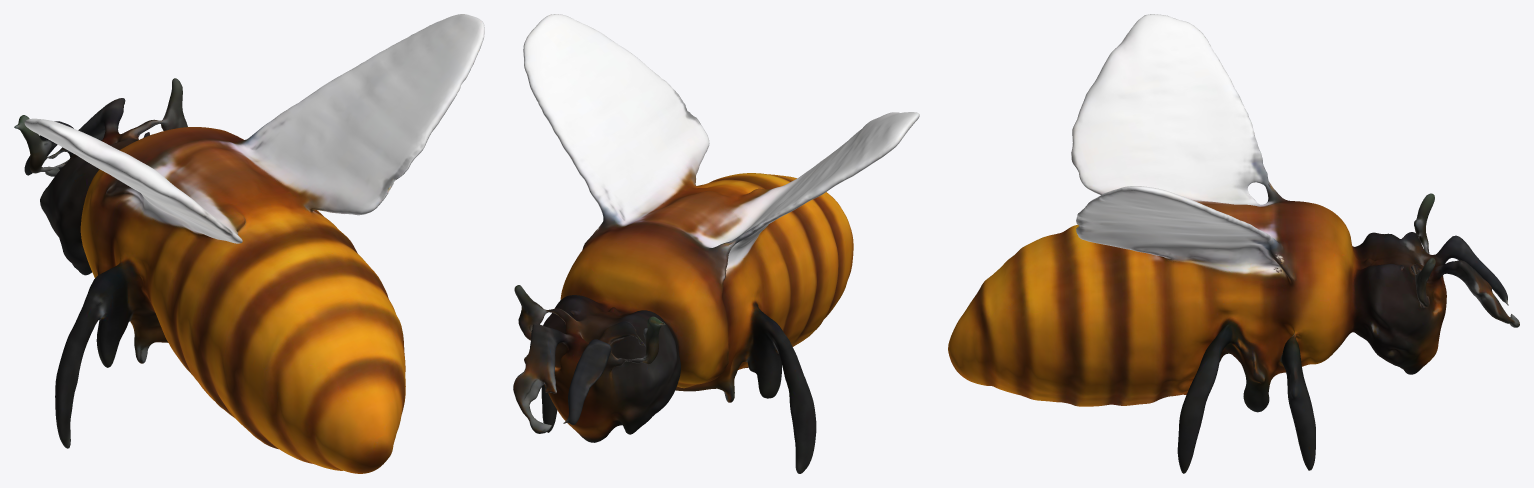
The model's file is 60c7f3c7b593_honeybee__3d_asset_0_glb.glb.
The picture shows the model from 3 angles, left to right: view 1: azimuth 30°, elevation 25°; view 2: azimuth 150°, elevation 25°; view 3: azimuth 270°, elevation 25°; orthographic projection. The views are drawn at different scales.
Parts seen in each view (by area): view 1: world; view 2: world; view 3: world.
Boxes of the visible parts, x1,y1,x2,y2 form: world: (14, 14, 484, 473); world: (513, 14, 919, 473); world: (948, 14, 1519, 473).
Bounding box in the file's own units: 0.4318 × 0.3726 × 0.5779.
1 material, 1 textured.
